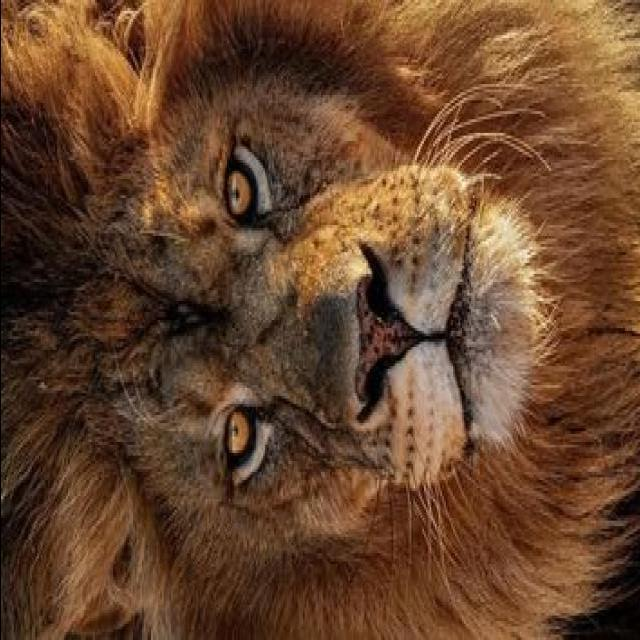lions: (10, 4, 640, 640)
